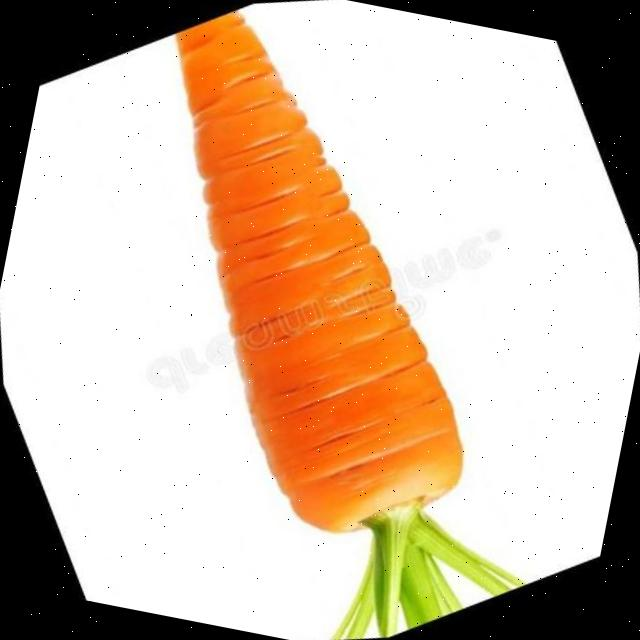carrot: (177, 13, 518, 636)
